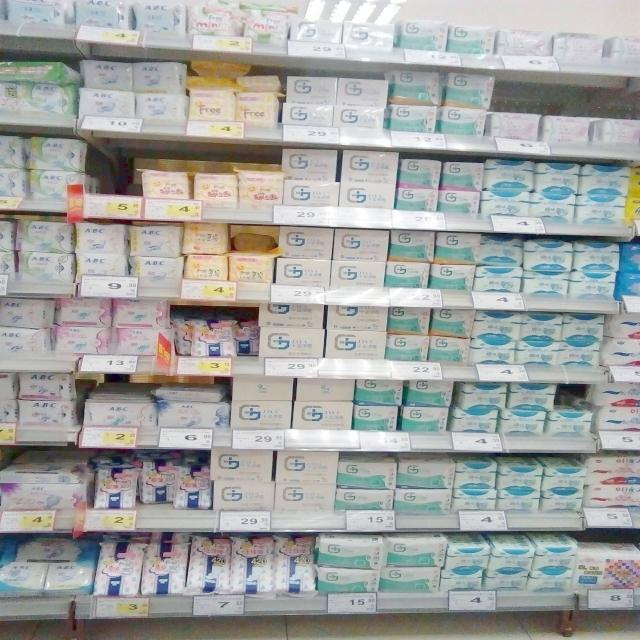empty_space: (513, 81, 631, 109), (93, 148, 135, 193)
